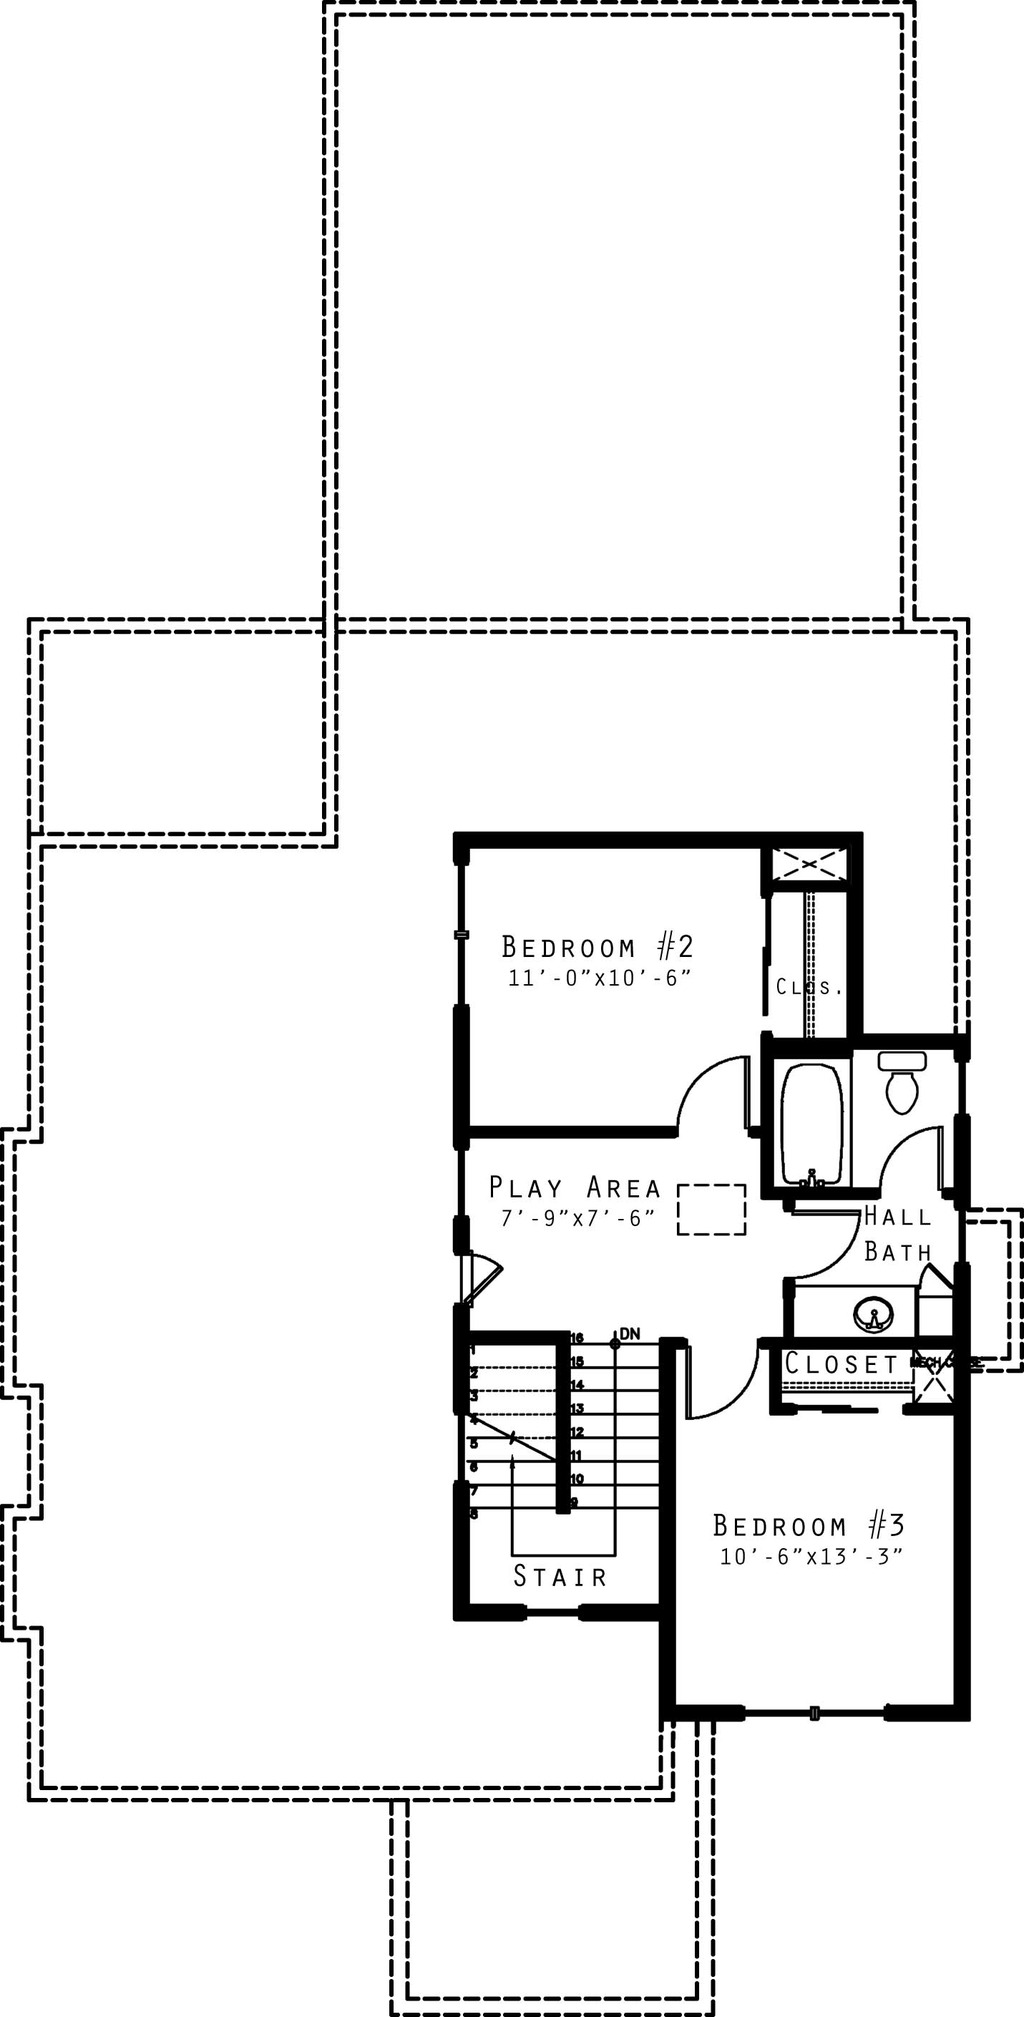door: (669, 1054, 765, 1154), (870, 1121, 960, 1208), (684, 1343, 765, 1437), (782, 1208, 866, 1285)
large_sink: (866, 1050, 927, 1121)
small_sink: (839, 1294, 903, 1350)
stairs: (466, 1328, 657, 1612)
tub: (772, 1050, 859, 1197)
